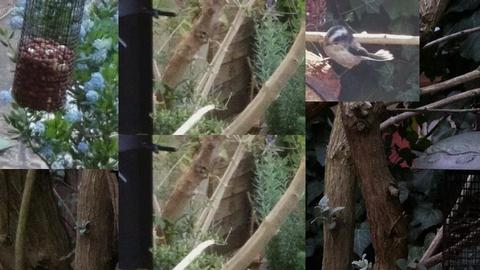long tailed tit: (316, 25, 394, 78)
